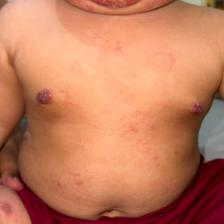DA: (111, 37, 185, 80), (65, 56, 111, 83)
